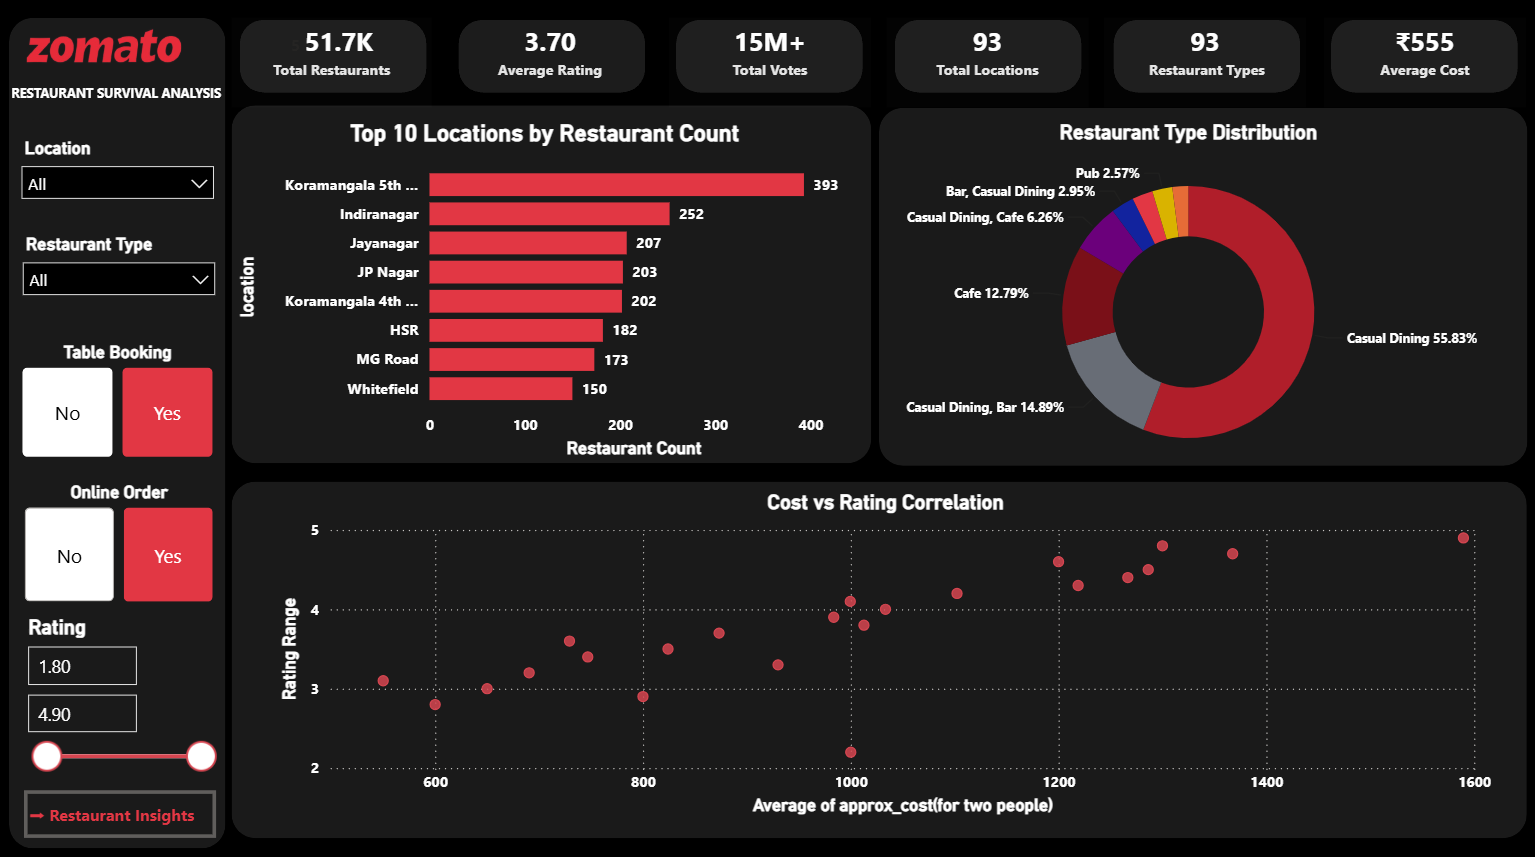

This screenshot's page, from the dashboard's own definition file:
{"tool":"powerbi","page":{"name":"Executive Overview","canvas":[1280,720],"ordinal":0},"visuals":[{"type":"group","id":"g1","title":"Group 1","box":[373.8,10,169.8,79.7],"z":0,"group":"g4"},{"type":"shape","box":[731.3,90.1,539.1,297.8],"z":0},{"type":"shape","box":[737.7,10,169,74.3],"z":1000,"group":"g6"},{"type":"group","id":"g2","title":"Group 4","box":[1100.7,10,169.4,79.7],"z":1000,"group":"g4"},{"type":"shape","box":[193.3,401.1,1077.1,296.6],"z":1000},{"type":"group","id":"g3","title":"Group 5","box":[918.5,10,169.7,79.7],"z":2000,"group":"g4"},{"type":"textbox","box":[737.9,15.5,168,74.2],"z":2000,"group":"g6"},{"type":"shape","box":[193.3,88.9,531.9,297.8],"z":2000},{"type":"group","id":"g4","title":"Group 8","box":[193,10,1077.1,80],"z":3000},{"type":"shape","box":[193,10,169,74.3],"z":3000,"group":"g4"},{"type":"shape","box":[1100.7,10,169,74.3],"z":3500,"group":"g2"},{"type":"shape","box":[556.1,10,169,74.3],"z":4000,"group":"g5"},{"type":"textbox","box":[193,15.5,166.8,74.5],"z":4000,"group":"g4"},{"type":"textbox","box":[1102.1,15.5,168,74.2],"z":4000,"group":"g2"},{"type":"clusteredBarChart","title":"Top 10 Locations by Restaurant Count","fields":{"Category":["zomato_clean.location"],"Y":["CountNonNull(zomato_clean.name)"]},"box":[193.3,100.9,521.1,285.8],"z":4000},{"type":"textbox","box":[557.2,15.5,168,74.2],"z":4500,"group":"g5"},{"type":"group","id":"g5","title":"Group 6","box":[556.1,10,169.1,79.7],"z":5000,"group":"g4"},{"type":"donutChart","title":" Restaurant Type Distribution","fields":{"Category":["zomato_clean.rest_type"],"Y":["CountNonNull(zomato_clean.rest_type)"]},"box":[688,94.6,582,300.3],"z":5000},{"type":"group","id":"g6","title":"Group 7","box":[737.7,10,169,79.7],"z":6000,"group":"g4"},{"type":"scatterChart","title":"Cost vs Rating Correlation","fields":{"X":["Avg(zomato_clean.approx_cost(for two people))"],"Y":["zomato_clean.rating"]},"box":[228.1,408.3,1017,275],"z":6000},{"type":"shape","box":[919.2,10,169,74.3],"z":7000,"group":"g3"},{"type":"shape","box":[8.1,15.1,180,690.7],"z":7000},{"type":"shape","box":[374.6,10,169,74.3],"z":8000,"group":"g1"},{"type":"textbox","box":[918.5,15.5,168,74.2],"z":8000,"group":"g3"},{"type":"advancedSlicerVisual","fields":{"Values":["zomato_clean.online_order"]},"box":[16.7,401.7,166.7,105],"z":8000},{"type":"textbox","box":[373.8,15.5,168,74.2],"z":8500,"group":"g1"},{"type":"slicer","fields":{"Values":["zomato_clean.listed_in(city)"]},"box":[8.6,110,180.6,60],"z":9000,"group":"g7"},{"type":"advancedSlicerVisual","title":"Table Booking","fields":{"Values":["zomato_clean.book_table"]},"box":[15,285,168.3,101.7],"z":9000},{"type":"slicer","fields":{"Values":["zomato_clean.rating"]},"box":[11.9,507.1,177.9,151.3],"z":10000},{"type":"group","id":"g7","title":"Group 3","box":[8.6,110,180,140],"z":11000},{"type":"image","box":[22.9,18.6,128.6,44.3],"z":12000},{"type":"textbox","box":[4.9,63.5,200,31.4],"z":13000},{"type":"slicer","fields":{"Values":["zomato_clean.rest_type"]},"box":[9.3,190.1,180.6,59.9],"z":13000,"group":"g7"},{"type":"actionButton","box":[20.4,658,159.7,39.6],"z":14000}]}

Visuals, with their boxes in screenshot pixels (x1, y1, x2, y2), scaled from the page's 1280x720 canvas onto the 1535x857 screenshot:
"Group 1" group: <region>448, 12, 652, 107</region>
shape: <region>877, 107, 1523, 462</region>
shape: <region>885, 12, 1087, 100</region>
"Group 4" group: <region>1320, 12, 1523, 107</region>
shape: <region>232, 477, 1523, 830</region>
"Group 5" group: <region>1101, 12, 1305, 107</region>
textbox: <region>885, 18, 1086, 107</region>
shape: <region>232, 106, 870, 460</region>
"Group 8" group: <region>231, 12, 1523, 107</region>
shape: <region>231, 12, 434, 100</region>
shape: <region>1320, 12, 1523, 100</region>
shape: <region>667, 12, 870, 100</region>
textbox: <region>231, 18, 431, 107</region>
textbox: <region>1322, 18, 1523, 107</region>
"Top 10 Locations by Restaurant Count" clusteredBarChart: <region>232, 120, 857, 460</region>
textbox: <region>668, 18, 870, 107</region>
"Group 6" group: <region>667, 12, 870, 107</region>
" Restaurant Type Distribution" donutChart: <region>825, 113, 1523, 470</region>
"Group 7" group: <region>885, 12, 1087, 107</region>
"Cost vs Rating Correlation" scatterChart: <region>274, 486, 1493, 813</region>
shape: <region>1102, 12, 1305, 100</region>
shape: <region>10, 18, 226, 840</region>
shape: <region>449, 12, 652, 100</region>
textbox: <region>1101, 18, 1303, 107</region>
advancedSlicerVisual - zomato_clean.online_order: <region>20, 478, 220, 603</region>
textbox: <region>448, 18, 650, 107</region>
slicer - zomato_clean.listed_in(city): <region>10, 131, 227, 202</region>
"Table Booking" advancedSlicerVisual: <region>18, 339, 220, 460</region>
slicer - zomato_clean.rating: <region>14, 604, 228, 784</region>
"Group 3" group: <region>10, 131, 226, 298</region>
image: <region>27, 22, 182, 75</region>
textbox: <region>6, 76, 246, 113</region>
slicer - zomato_clean.rest_type: <region>11, 226, 228, 298</region>
actionButton: <region>24, 783, 216, 830</region>
